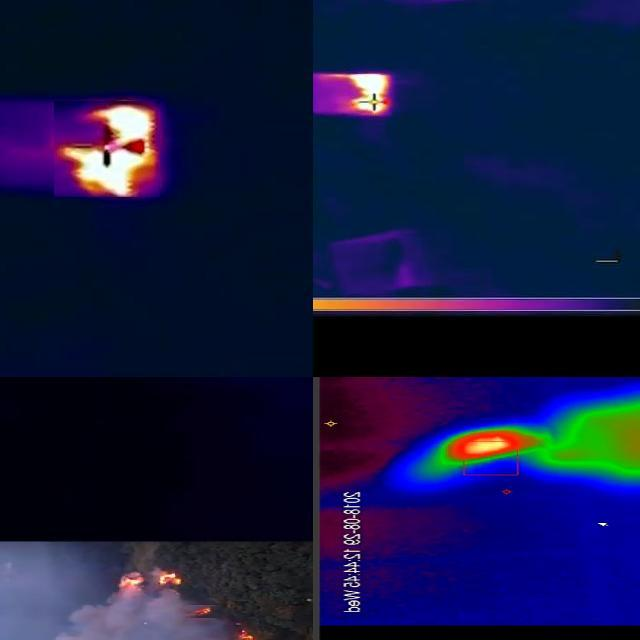fire: (54, 102, 160, 198), (435, 429, 551, 471), (314, 73, 390, 119)
